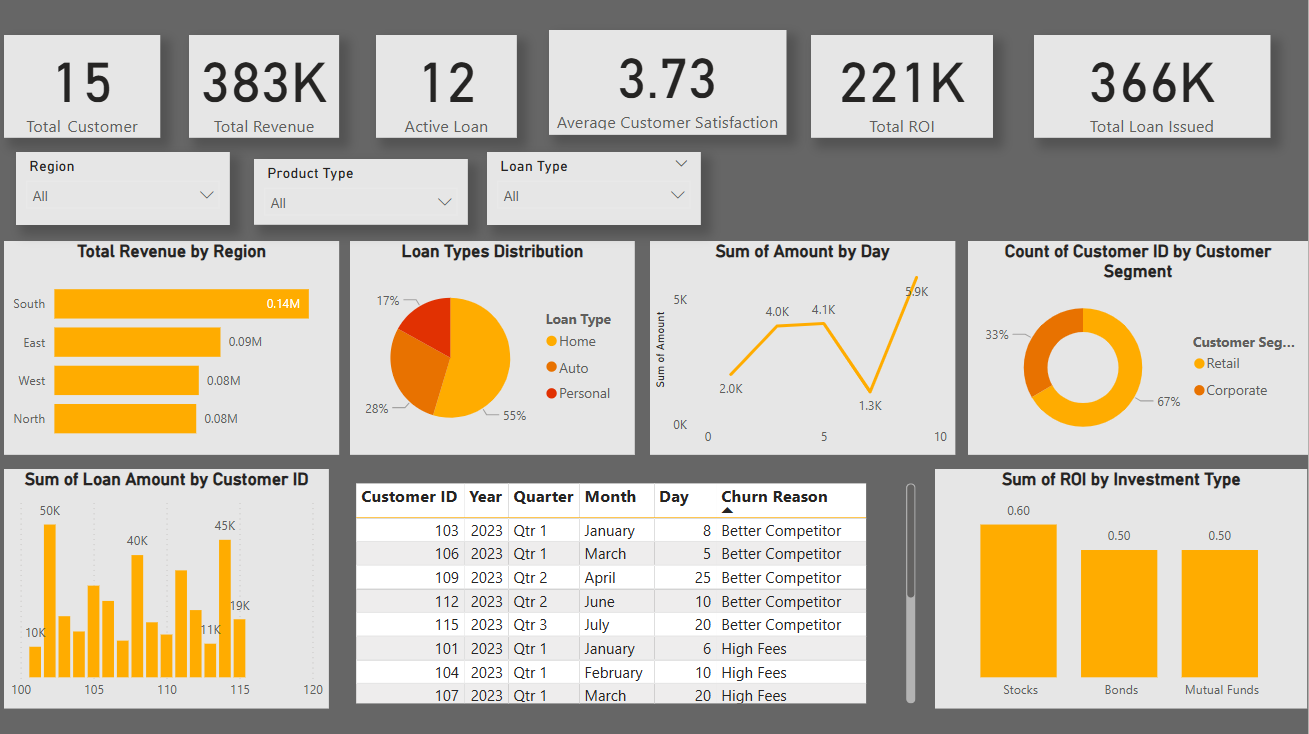

The dashboard page shown, as its layout file describes it:
{"tool":"powerbi","page":{"name":"Page 1","canvas":[1280,720],"ordinal":0},"visuals":[{"type":"card","fields":{"Values":["Customer Demographics.Total_Customer"]},"box":[11.4,38.5,151.9,100.9],"z":0},{"type":"card","fields":{"Values":["Credit Card Transactions.Total Revenue"]},"box":[191.6,38.9,145.9,100.2],"z":1000},{"type":"card","fields":{"Values":["Credit Card Transactions.Active Loan"]},"box":[373.5,38.9,137.1,100.2],"z":2000},{"type":"card","fields":{"Values":["Loan Portfolio.Average Customer Satisfaction"]},"box":[541.8,34,230.5,102.1],"z":3000},{"type":"card","fields":{"Values":["Investment Portfolios.Total ROI"]},"box":[796.6,38.9,177,100.2],"z":4000},{"type":"barChart","fields":{"Y":["Credit Card Transactions.Total Revenue"],"Category":["Customer Demographics.Region"]},"box":[11.6,239,326.4,208.2],"z":5000},{"type":"pieChart","title":"Loan Types Distribution","fields":{"Category":["Loan Portfolio.Loan Type"],"Y":["Sum(Loan Portfolio.Loan Amount)"]},"box":[348.2,239.3,277.2,208.1],"z":6000},{"type":"lineChart","fields":{"Category":["Loan Portfolio.End Date.Variation.Date Hierarchy.Day"],"Y":["Sum(Credit Card Transactions.Amount)"]},"box":[640,239,296.9,208.2],"z":7000},{"type":"donutChart","fields":{"Category":["Customer Demographics.Customer Segment"],"Y":["CountNonNull(Loan Portfolio.Customer ID)"]},"box":[949.3,239.3,330.7,208.1],"z":8000},{"type":"columnChart","fields":{"Category":["Customer Demographics.Customer ID"],"Y":["Sum(Loan Portfolio.Loan Amount)"]},"box":[11.6,461.4,316.1,232.6],"z":9000},{"type":"tableEx","fields":{"Values":["Customer Churn.Customer ID","Customer Churn.Churn Date.Variation.Date Hierarchy.Year","Customer Churn.Churn Date.Variation.Date Hierarchy.Quarter","Customer Churn.Churn Date.Variation.Date Hierarchy.Month","Customer Churn.Churn Date.Variation.Date Hierarchy.Day","Customer Churn.Churn Reason"]},"box":[347.8,461.5,555.4,232.7],"z":10000},{"type":"card","fields":{"Values":["Loan Portfolio.Total Loan Issued"]},"box":[1013.5,38.9,229.5,100.2],"z":11000},{"type":"columnChart","fields":{"Y":["Sum(Investment Portfolios.ROI)"],"Category":["Investment Portfolios.Investment Type"]},"box":[917.6,461.4,362.4,232.6],"z":12000},{"type":"slicer","fields":{"Values":["Customer Demographics.Region"]},"box":[23.1,152.9,208.2,70.7],"z":13000},{"type":"slicer","fields":{"Values":["Interest Rates.Product Type"]},"box":[254.5,159.4,208.2,64.3],"z":14000},{"type":"slicer","fields":{"Values":["Loan Portfolio.Loan Type"]},"box":[481.9,152.9,208.2,70.7],"z":15000}]}

Visuals, with their boxes in screenshot pixels (x1, y1, x2, y2), scaled from the page's 1280x720 canvas onto the 1309x734 screenshot:
card - Customer Demographics.Total_Customer: <region>12, 39, 167, 142</region>
card - Credit Card Transactions.Total Revenue: <region>196, 40, 345, 142</region>
card - Credit Card Transactions.Active Loan: <region>382, 40, 522, 142</region>
card - Loan Portfolio.Average Customer Satisfaction: <region>554, 35, 790, 139</region>
card - Investment Portfolios.Total ROI: <region>815, 40, 996, 142</region>
barChart - Credit Card Transactions.Total Revenue x Customer Demographics.Region: <region>12, 244, 346, 456</region>
"Loan Types Distribution" pieChart: <region>356, 244, 640, 456</region>
lineChart - Loan Portfolio.End Date.Variation.Date Hierarchy.Day x Sum(Credit Card Transactions.Amount): <region>654, 244, 958, 456</region>
donutChart - Customer Demographics.Customer Segment x CountNonNull(Loan Portfolio.Customer ID): <region>971, 244, 1308, 456</region>
columnChart - Customer Demographics.Customer ID x Sum(Loan Portfolio.Loan Amount): <region>12, 470, 335, 707</region>
tableEx - Customer Churn.Customer ID x Customer Churn.Churn Date.Variation.Date Hierarchy.Year: <region>356, 470, 924, 708</region>
card - Loan Portfolio.Total Loan Issued: <region>1036, 40, 1271, 142</region>
columnChart - Sum(Investment Portfolios.ROI) x Investment Portfolios.Investment Type: <region>938, 470, 1308, 707</region>
slicer - Customer Demographics.Region: <region>24, 156, 237, 228</region>
slicer - Interest Rates.Product Type: <region>260, 162, 473, 228</region>
slicer - Loan Portfolio.Loan Type: <region>493, 156, 706, 228</region>
